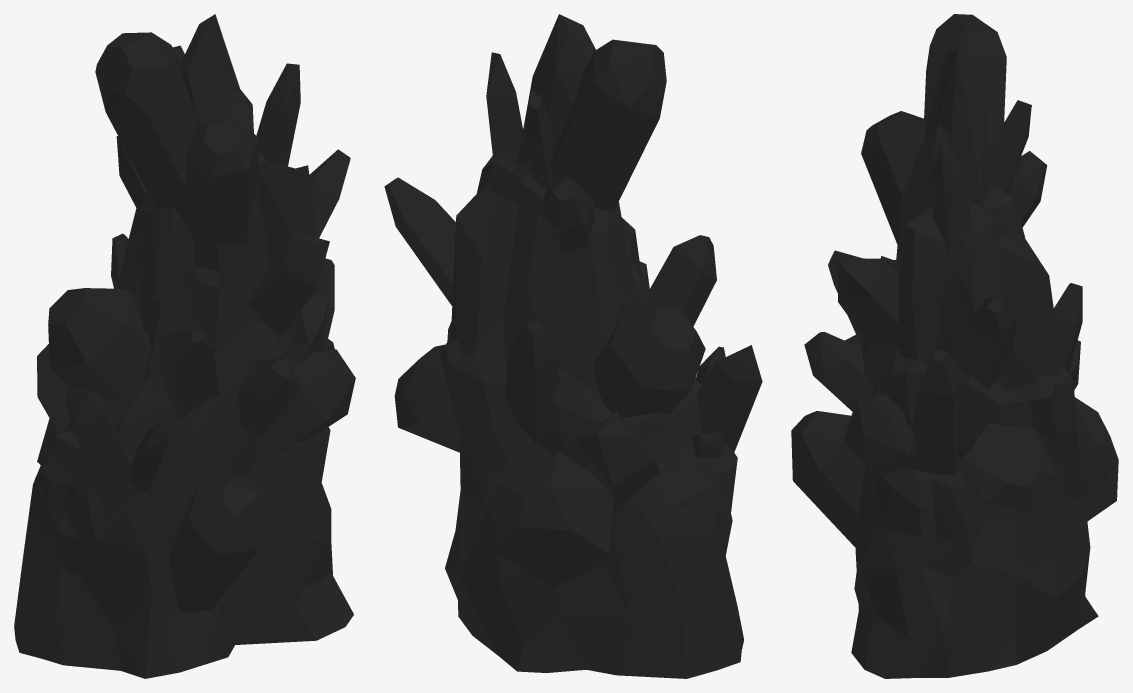
Rendered from mining_PP_Crystal_Column_03_Iron.gltf.
3 views of the same model, side by side, from view 1: azimuth 30°, elevation 25°; view 2: azimuth 150°, elevation 25°; view 3: azimuth 270°, elevation 25° (orthographic). The views are drawn at different scales.
Visible parts, largest first — view 1: PP_Crystal_Column_03_Iron; view 2: PP_Crystal_Column_03_Iron; view 3: PP_Crystal_Column_03_Iron.
Part boxes in pixels (<box>): PP_Crystal_Column_03_Iron: <box>14,14,355,678</box>; PP_Crystal_Column_03_Iron: <box>384,14,762,678</box>; PP_Crystal_Column_03_Iron: <box>791,14,1118,678</box>.
Bounding box in the file's own units: 0.8843 × 1.47 × 0.7517.
1 material, 1 textured.
